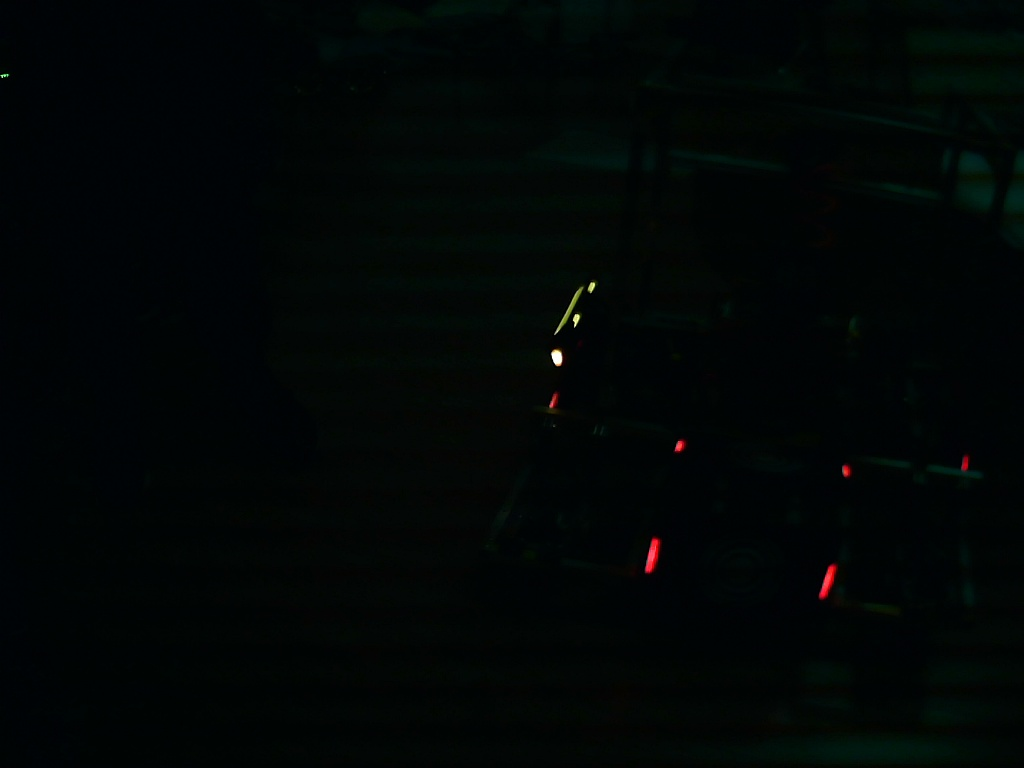lamp: (639, 535, 664, 574), (818, 563, 838, 600)
